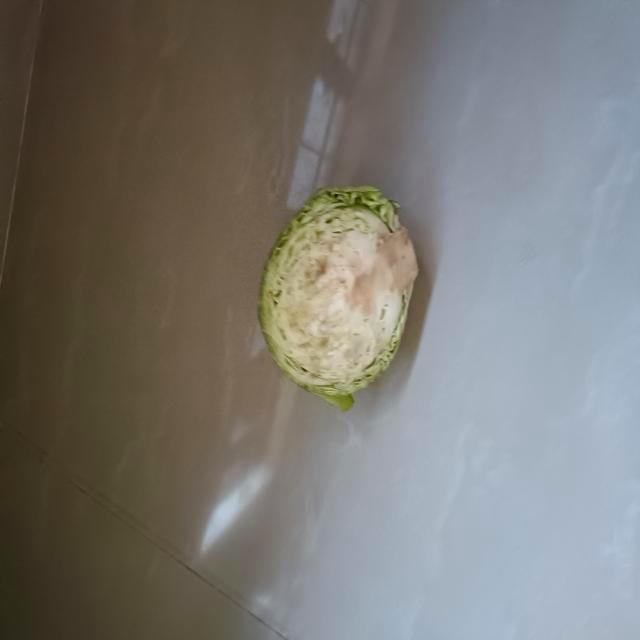cabbage: (253, 176, 422, 415)
